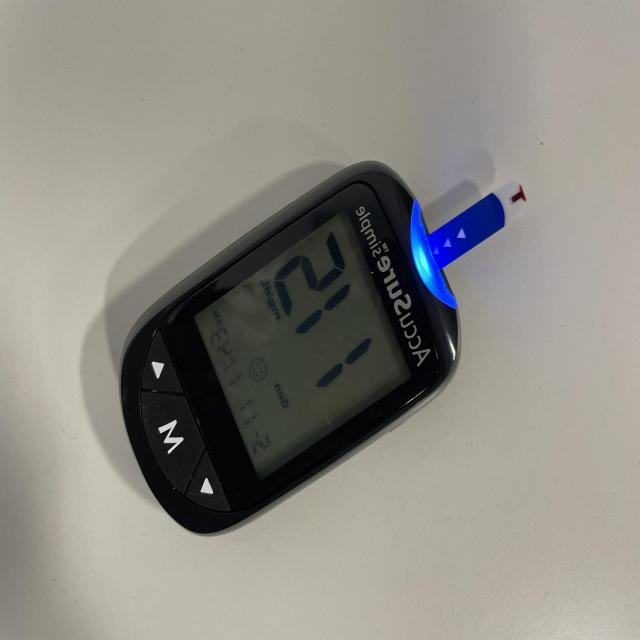gluco: (117, 165, 505, 538)
